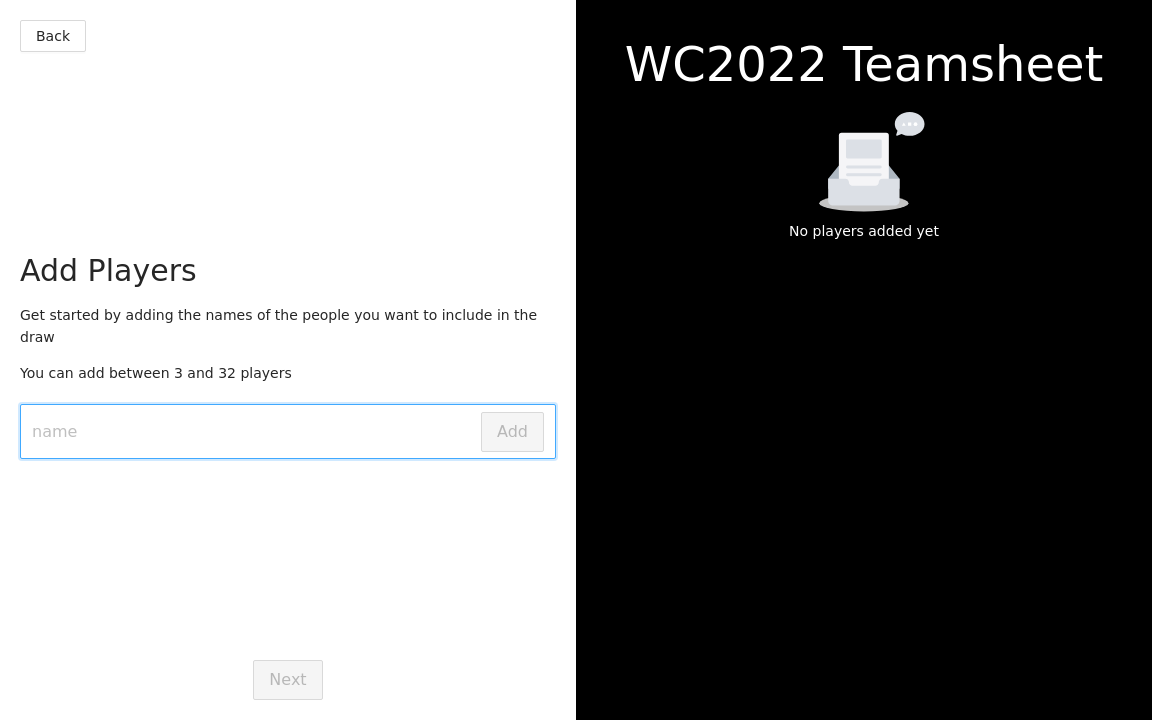
AddPlayerPage › should be able to add players
The image size is (1152, 720).
Type "Tom" into the field with test id "playerNameInput" at (254, 432), box [32,412,477,452]
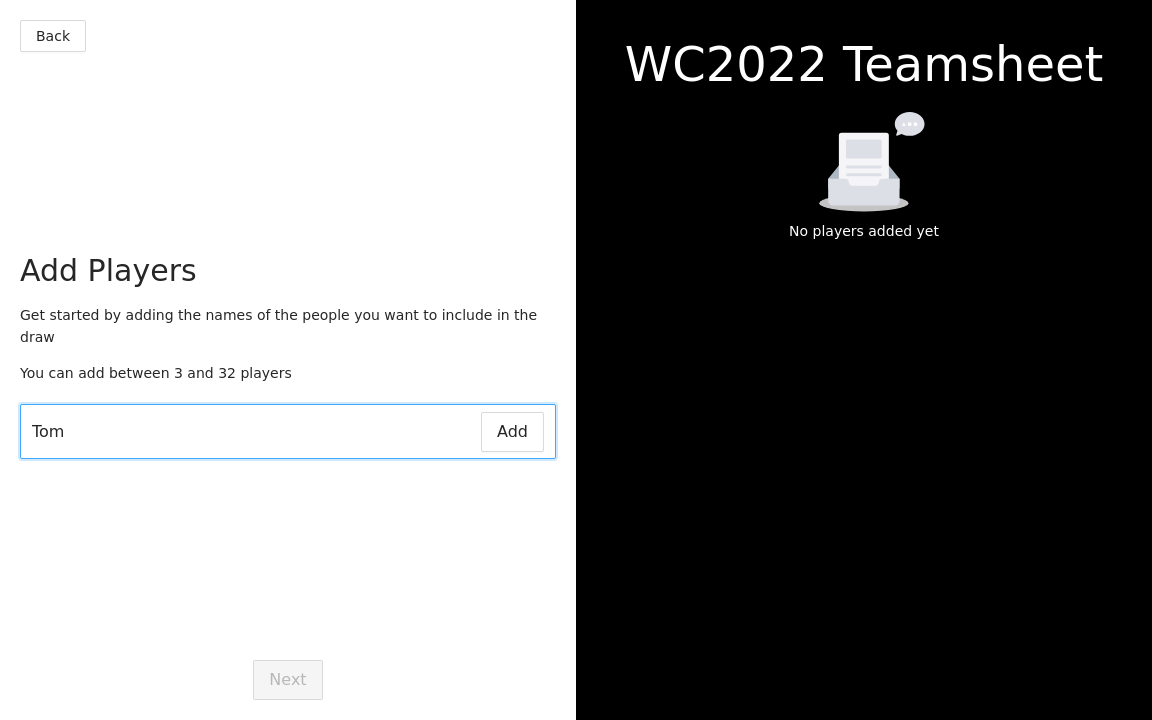
Click the button with test id "addPlayerBtn" at (512, 432), box [481,412,544,452]
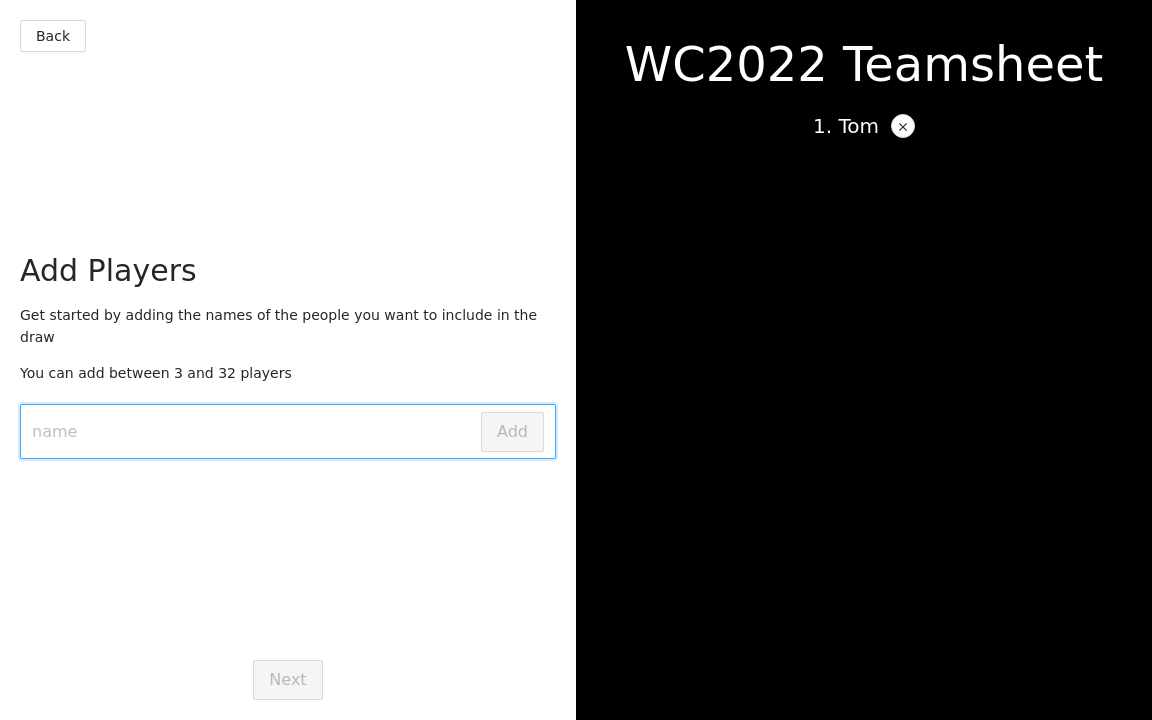
Expected: the element with test id "playerList" shows "Tom", [838,114,879,138]
